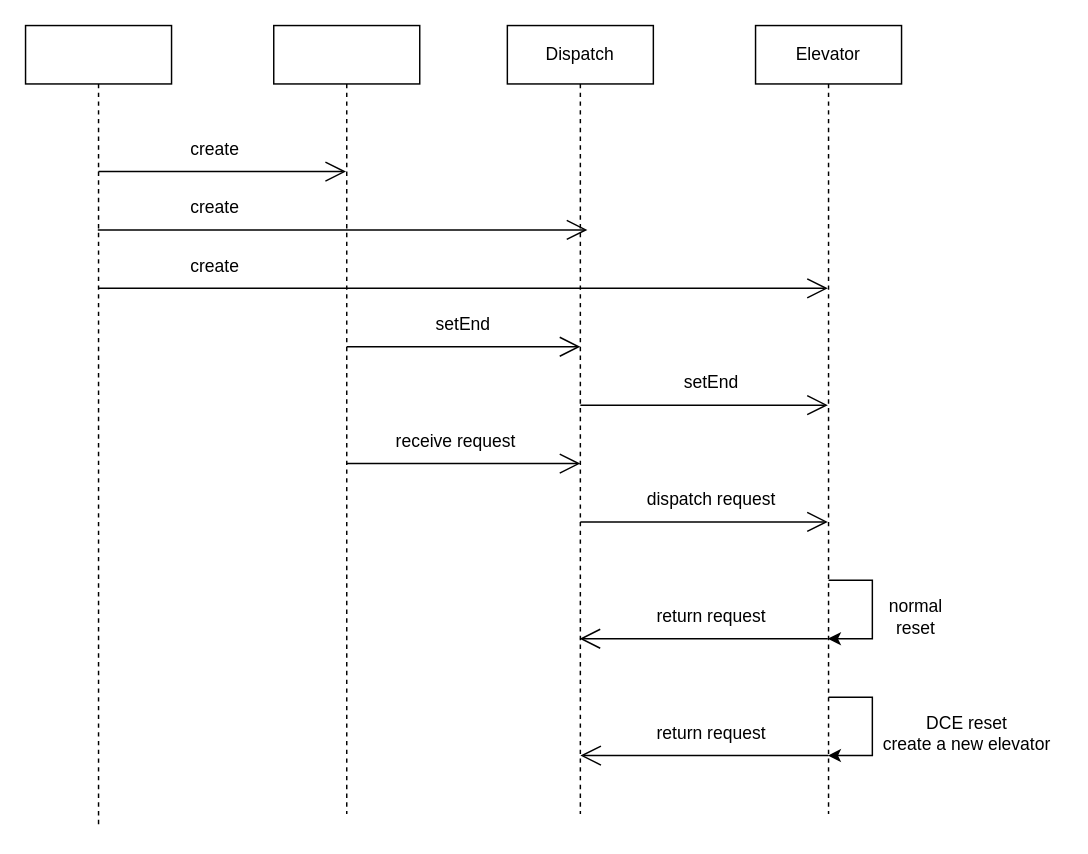
The diagram is 1088 pixels wide and 854 high, and some of its shapes have lost their labels. The box of each missing label's shape, as (x1, y1, x2, y2) in pixels:
InputHandler: (272, 24, 420, 814)
Main: (24, 24, 172, 829)
